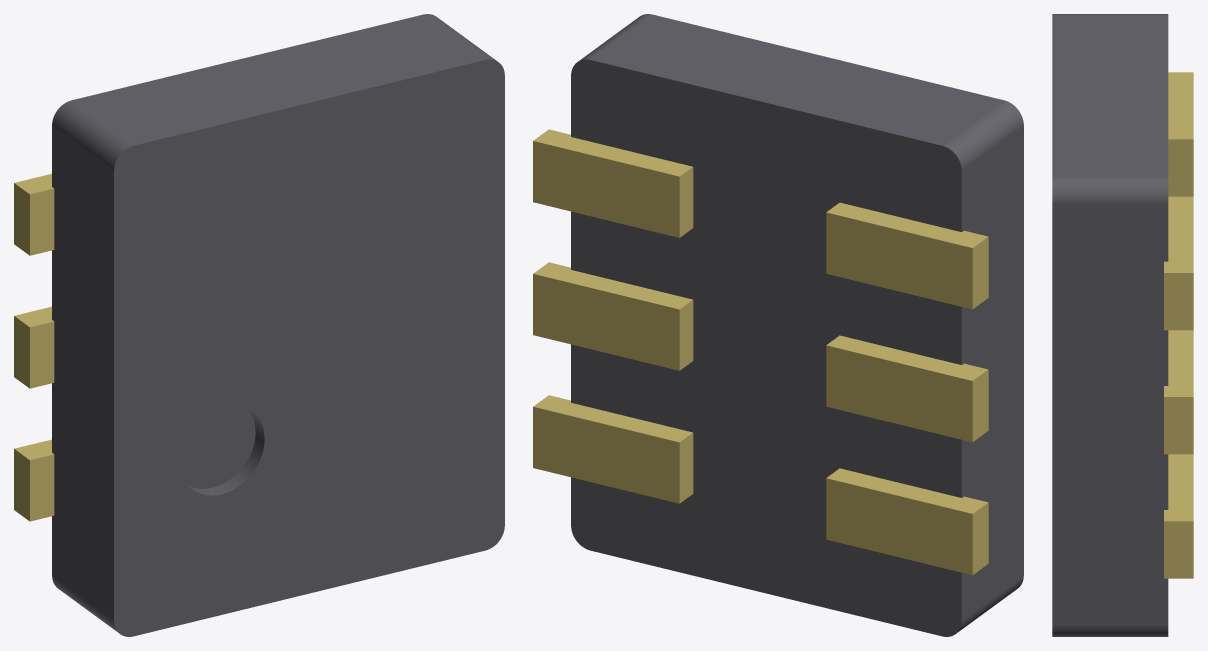
Rendered from tcs34725.glb.
The picture shows the model from 3 angles, left to right: view 1: azimuth 30°, elevation 25°; view 2: azimuth 150°, elevation 25°; view 3: azimuth 270°, elevation 25°; orthographic projection. The views are drawn at different scales.
Visible parts, largest first — view 1: extra, pins; view 2: extra, pins; view 3: extra, pins.
Boxes of the visible parts, left/top/right/bottom form: extra: left=52, top=14, right=504, bottom=636; pins: left=14, top=174, right=54, bottom=521; extra: left=571, top=14, right=1023, bottom=636; pins: left=533, top=129, right=988, bottom=575; extra: left=1052, top=14, right=1168, bottom=636; pins: left=1164, top=72, right=1193, bottom=578.
Bounding box in the file's own units: 2.25 × 2.4 × 0.67.
